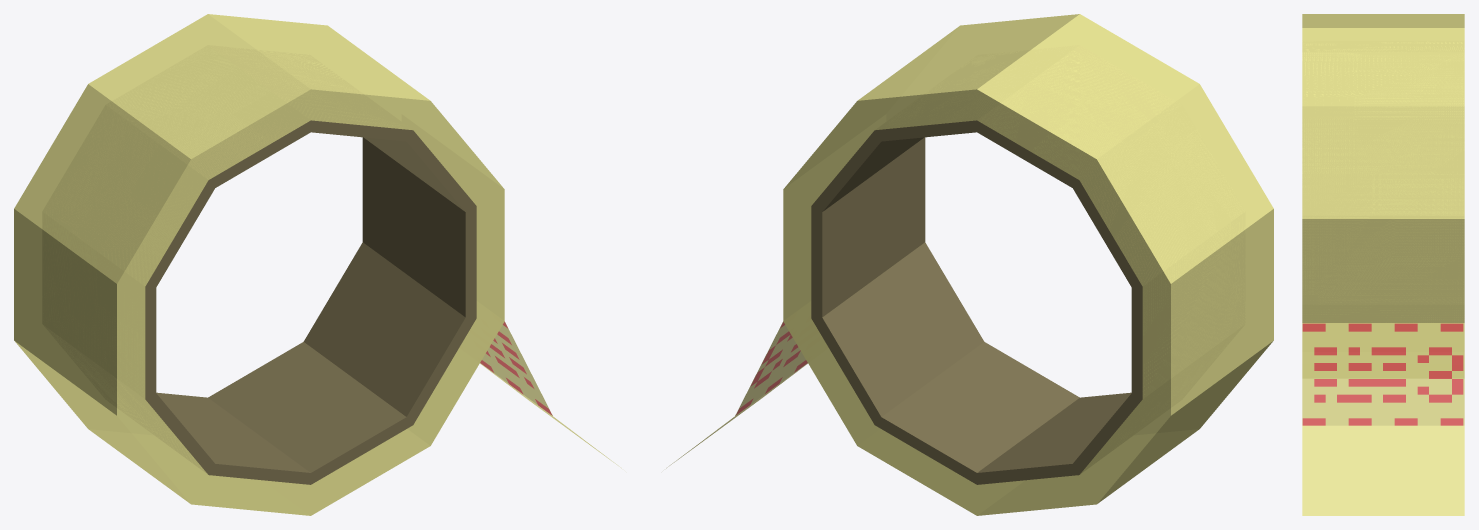
Rendered from Tape.glb.
3 views of the same model, side by side, from view 1: azimuth 30°, elevation 25°; view 2: azimuth 150°, elevation 25°; view 3: azimuth 270°, elevation 25° (orthographic). The views are drawn at different scales.
Visible parts, largest first — view 1: Скотч, Основа; view 2: Скотч, Основа; view 3: Скотч.
Boxes of the visible parts, x1,y1,x2,y2 form: Скотч: (14, 14, 621, 515); Основа: (145, 120, 476, 484); Скотч: (666, 14, 1273, 515); Основа: (811, 120, 1142, 484); Скотч: (1302, 14, 1464, 515).
Bounding box in the file's own units: 0.1919 × 0.1656 × 0.0668.
Materials: 2 (1 with a texture image).
